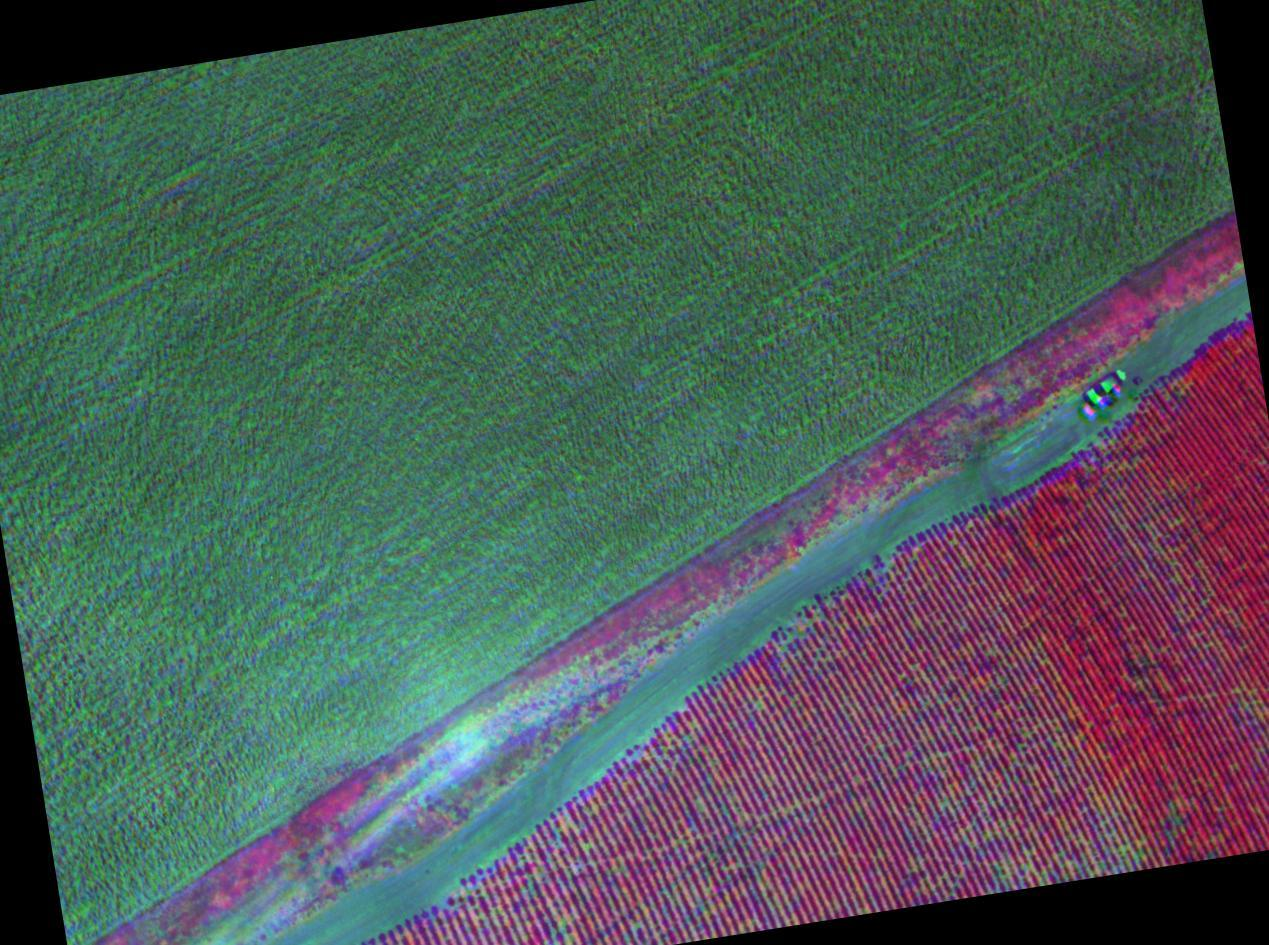dc: (1080, 787, 1151, 867), (915, 667, 973, 745), (787, 610, 839, 668), (977, 835, 1041, 877), (544, 820, 604, 862), (445, 884, 493, 922), (542, 905, 587, 945)
